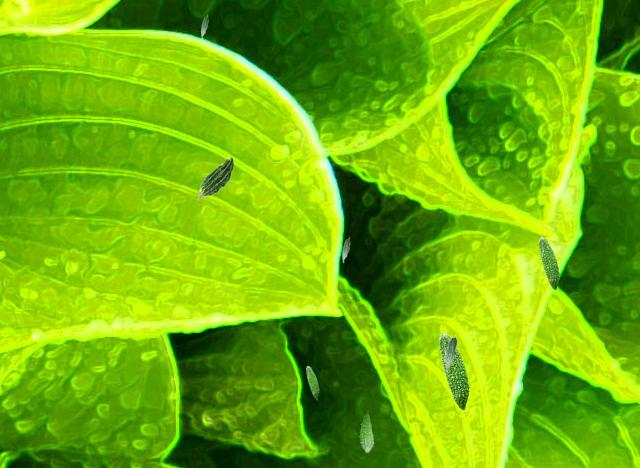ampalaya: (438, 332, 470, 413), (197, 156, 234, 200), (538, 236, 560, 292), (358, 410, 374, 454), (305, 365, 320, 400), (444, 334, 457, 372), (341, 236, 350, 263), (200, 14, 208, 39)
